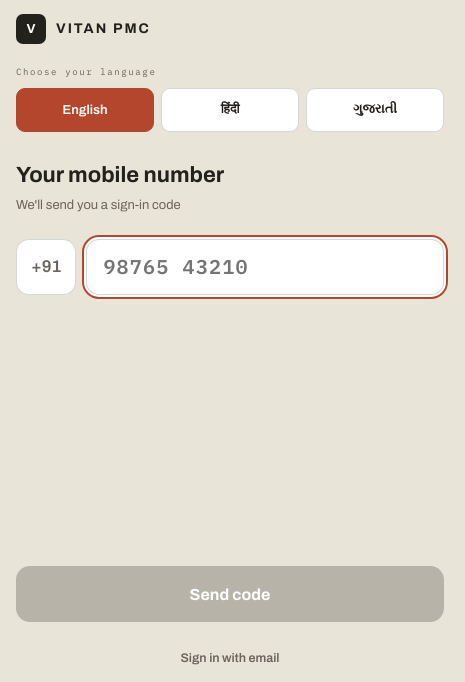
#827 one-screen sign-in › a send that fails stays on the number and points to "Sign in with email"
This screenshot has width=465, height=682.
In the field with test id "phone-input": point(265, 267) [86,239,444,295], type "9876543210"
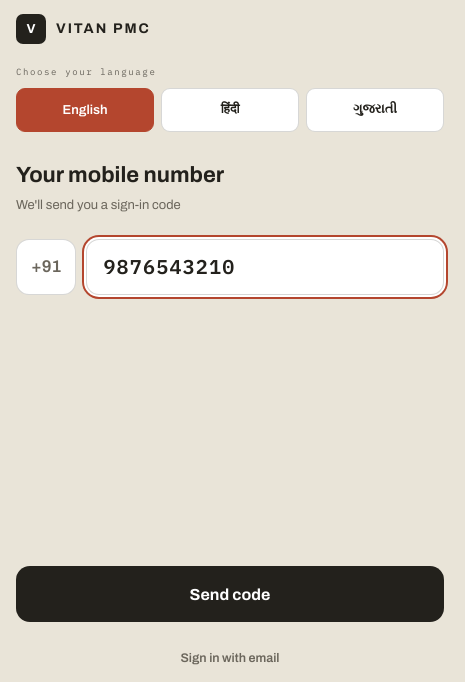
Click the button with test id "send-code": point(230, 594) [16,566,444,622]
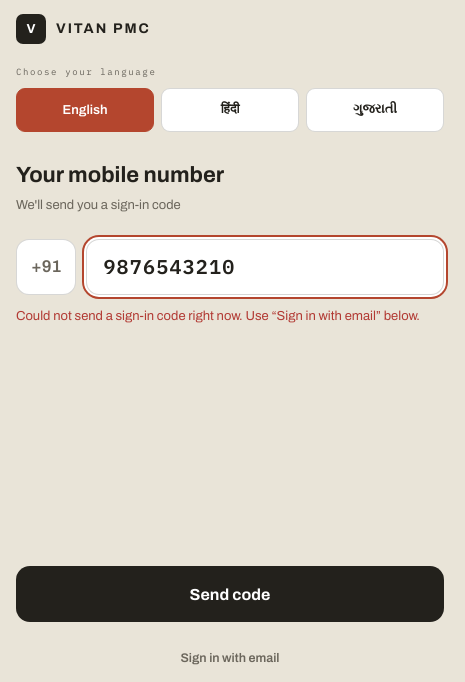
Check: the text "Could not send a sign-in code right now. Use “Sign in with email” below." is shown, box [16,307,444,325]
